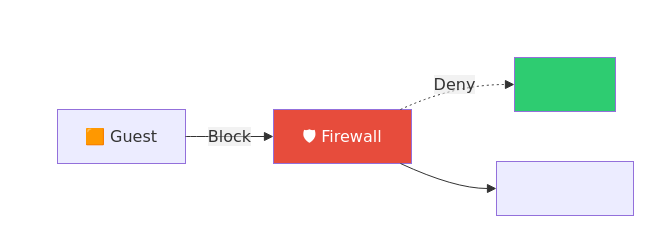
The diagram is 651 pixels wide and 233 high, and some of its shapes have lost their labels. Each missing label, with the box of its shape:
☁ Internet: (496, 160, 634, 216)
🟩 IT: (514, 56, 616, 112)
